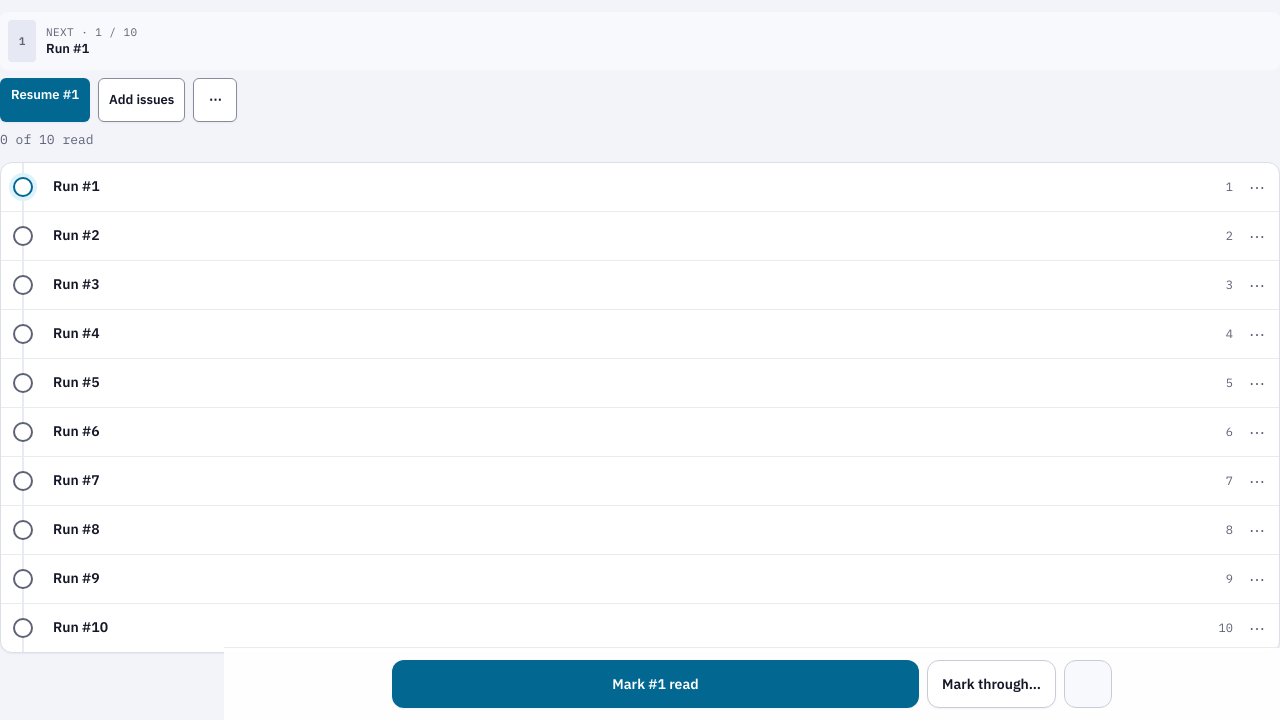
Test: the range sheet (UX floor, R1-11) › offers four dates as real, named radio inputs, and no Original dates
The width and height of the screenshot is (1280, 720).
Click the button with class "rowmenu-btn" in the row of "Run #4" at (1257, 334), box [1241,318,1273,350]
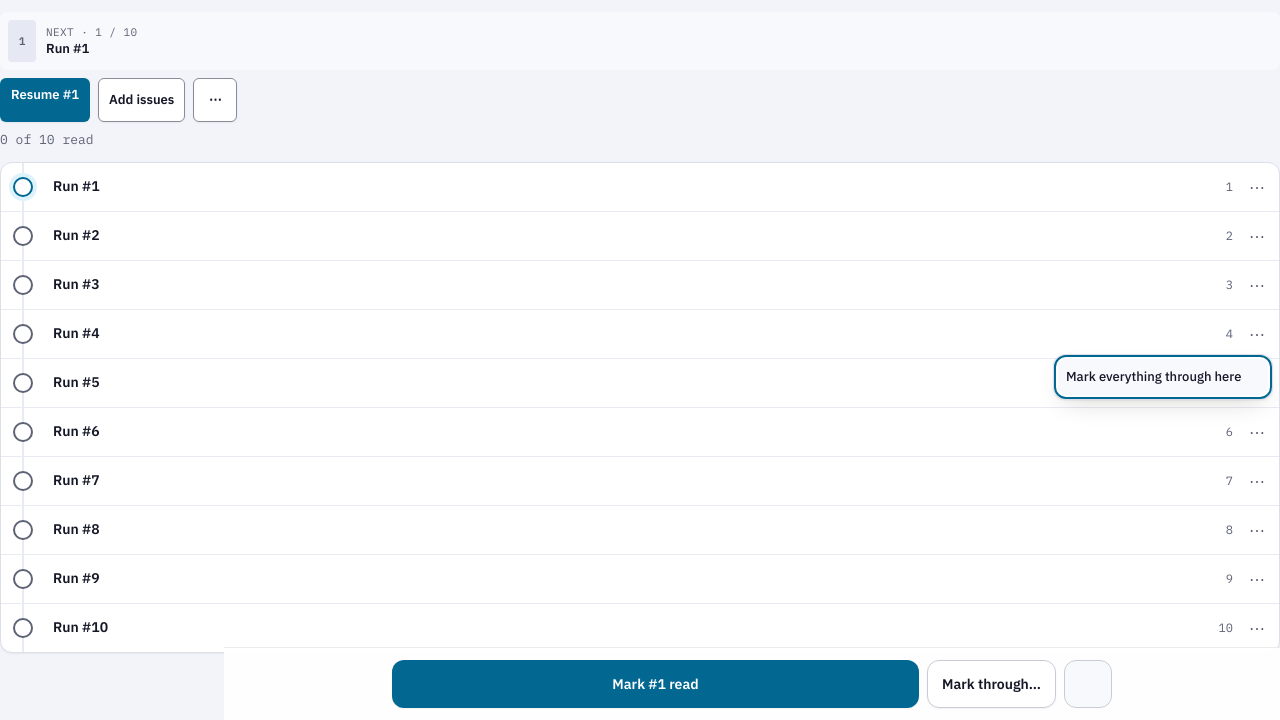
Click the menu item "Mark everything through here" at (1163, 376), box [1058,358,1268,394]
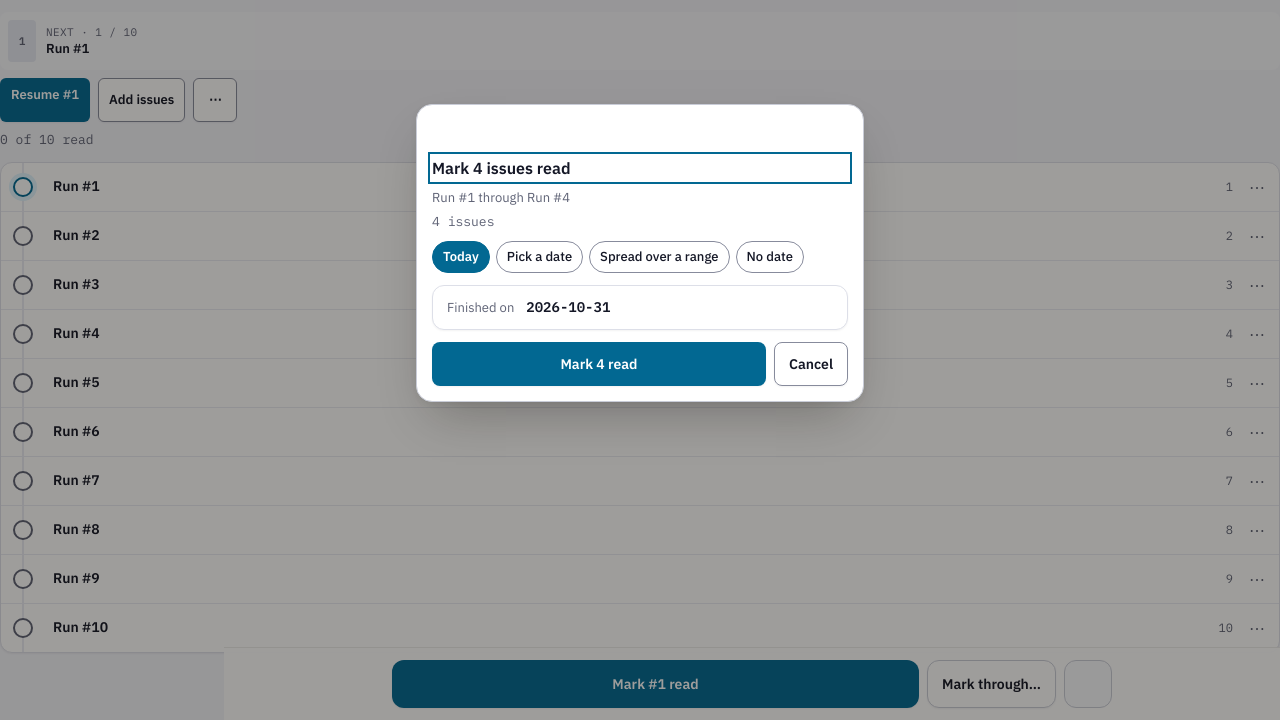
Expected: the radio button labelled "Today" is checked, [432,241,490,273]
